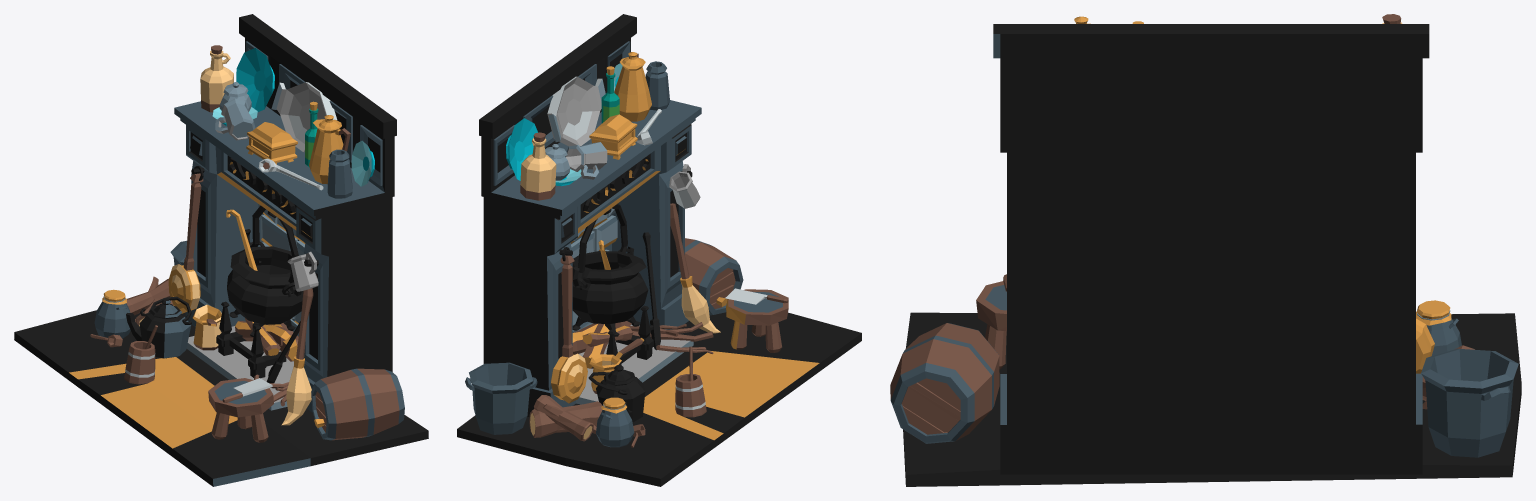
File: scene_yJbGuk4PWe.glb
3 renders of one model, left to right at view 1: azimuth 30°, elevation 25°; view 2: azimuth 150°, elevation 25°; view 3: azimuth 270°, elevation 25°, orthographic. The views are drawn at different scales.
Parts seen in each view (by area): view 1: group1076645585, group1520531729, group212966906, group1044170952, group1960025024, group1600486739, group1321488176, group1212789822, group547411771, group758756613, group212184018, group2136472006 (+19 smaller); view 2: group1520531729, group1076645585, group212966906, group1960025024, group633727869, group1212789822, group1044170952, group547411771, group1600486739, group1449276671, group2136472006, group638066464 (+21 smaller); view 3: group1520531729, group212966906, group1076645585, group1044170952, group633727869, group1600486739, group1841676699, group547411771.
Boxes of the visible parts, x1,y1,x2,y2 form: group1076645585: (14, 310, 428, 486); group1520531729: (174, 14, 396, 326); group212966906: (186, 175, 394, 412); group1044170952: (311, 368, 404, 440); group1960025024: (227, 246, 303, 324); group1600486739: (208, 378, 273, 442); group1321488176: (126, 296, 191, 358); group1212789822: (271, 82, 337, 152); group547411771: (168, 166, 203, 313); group758756613: (281, 288, 313, 425); group212184018: (236, 48, 274, 111); group2136472006: (309, 115, 350, 184); group1520531729: (479, 14, 676, 417); group1076645585: (457, 312, 861, 486); group212966906: (576, 100, 701, 404); group1960025024: (572, 251, 648, 323); group633727869: (465, 362, 537, 434); group1212789822: (547, 76, 605, 146); group1044170952: (685, 238, 743, 315); group547411771: (551, 247, 587, 403); group1600486739: (726, 289, 788, 352); group1449276671: (529, 395, 602, 441); group2136472006: (614, 52, 651, 121); group638066464: (520, 132, 556, 200); group1520531729: (993, 24, 1429, 474); group212966906: (1000, 143, 1077, 474); group1076645585: (903, 312, 1521, 486); group1044170952: (890, 323, 999, 443); group633727869: (1421, 348, 1518, 457); group1600486739: (976, 281, 1006, 369); group1841676699: (1416, 300, 1461, 355); group547411771: (1416, 318, 1434, 373).
Size of the model in its own units: 1.11 by 1.48 by 1.88.
